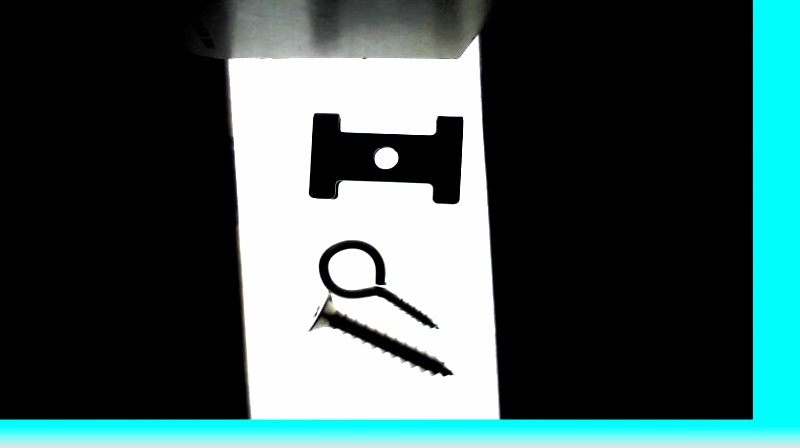O001: (316, 238, 442, 331)
O002: (306, 110, 467, 204)
S001: (305, 291, 459, 379)
